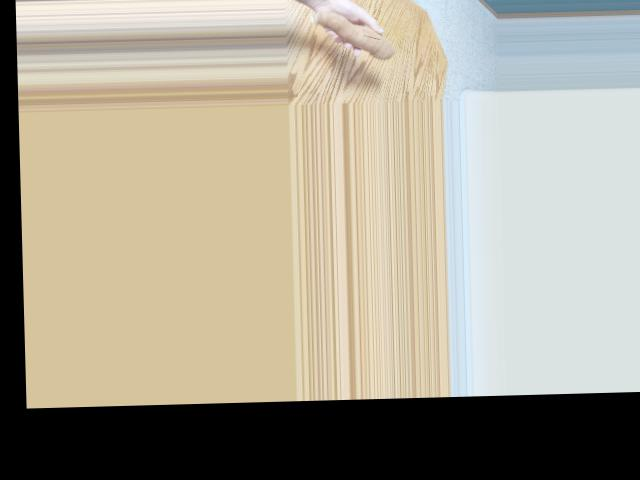sweet_potato: (308, 2, 397, 62)
